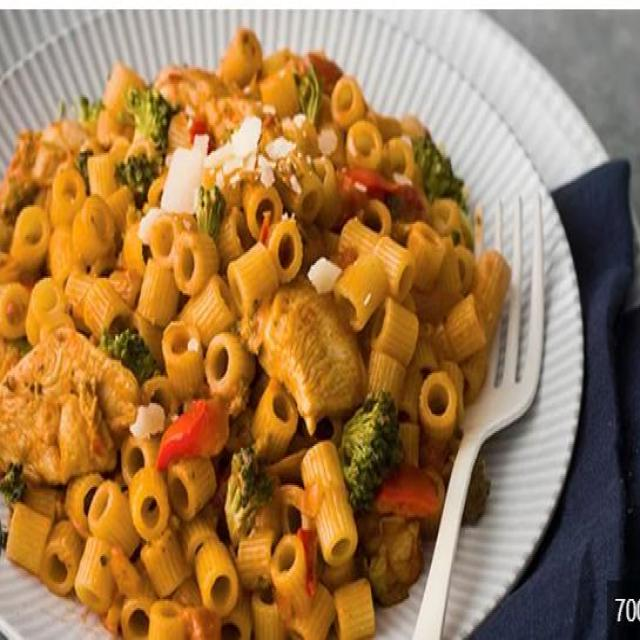Pasta: (8, 62, 487, 588)
